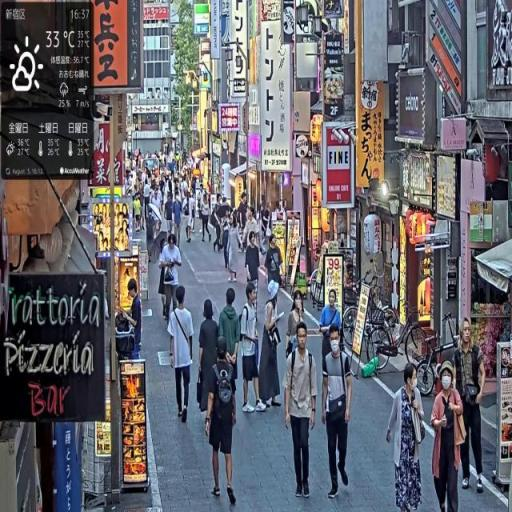person: (283, 321, 321, 507), (452, 317, 487, 495), (321, 322, 354, 506), (205, 337, 240, 509), (387, 365, 428, 511), (430, 361, 468, 512), (169, 287, 195, 424), (239, 284, 265, 415), (199, 298, 221, 428), (260, 297, 284, 411), (218, 286, 242, 393), (159, 232, 183, 329), (321, 292, 343, 364), (200, 195, 213, 246)
